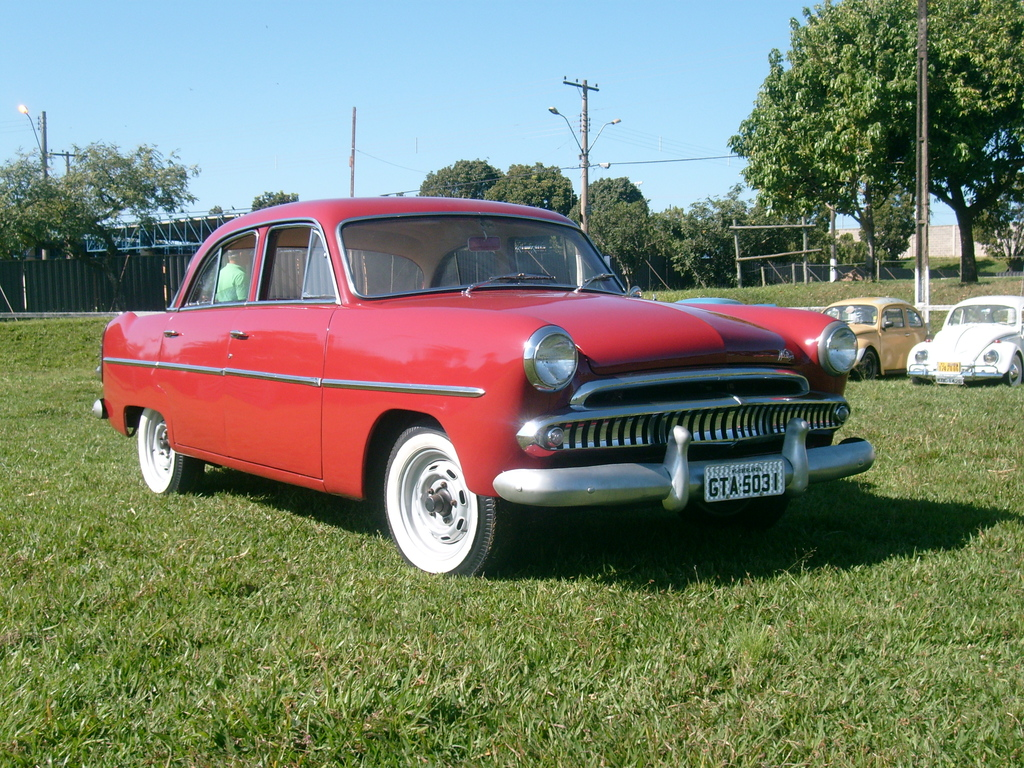Car: (88, 194, 873, 579), (904, 293, 1023, 384), (821, 296, 931, 379)
